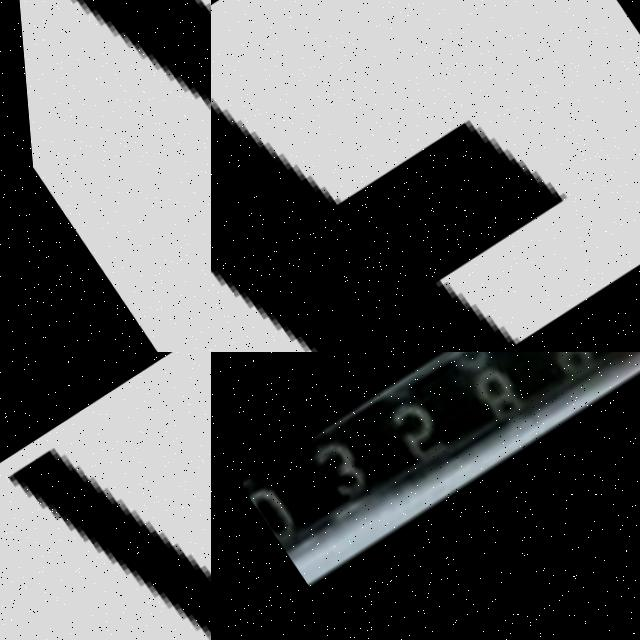0: (241, 481, 299, 548)
3: (302, 434, 372, 510)
5: (379, 398, 451, 475)
6: (0, 0, 211, 352)
8: (457, 361, 526, 436)
9: (526, 352, 602, 395)
F: (211, 0, 640, 352)
T: (0, 352, 211, 640)
